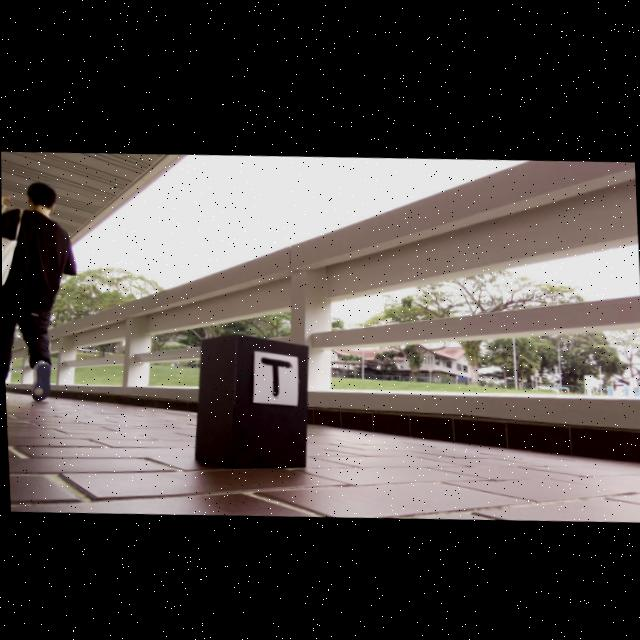T: (261, 355, 290, 394)
